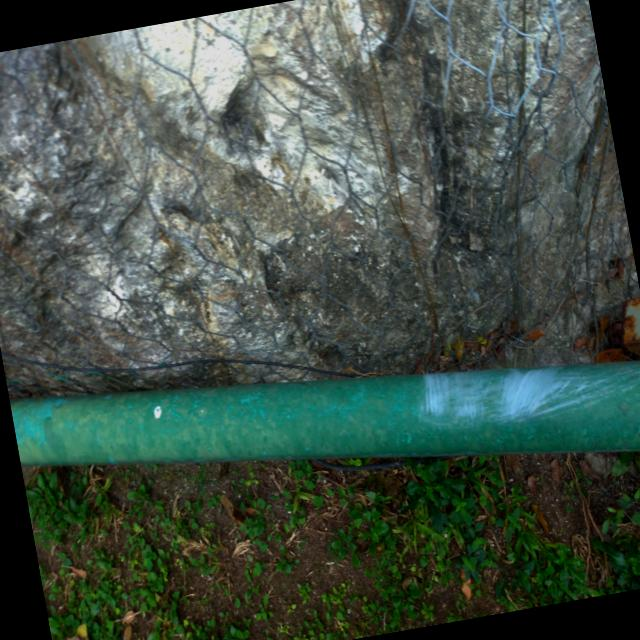gas: (9, 363, 640, 463)
